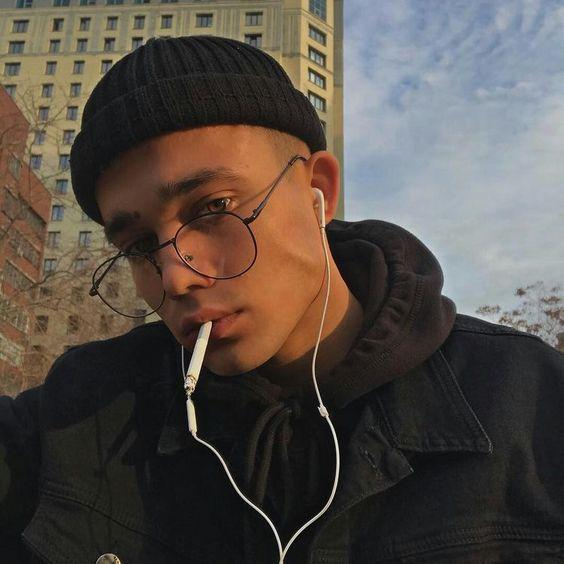cigarette: (184, 321, 213, 397)
